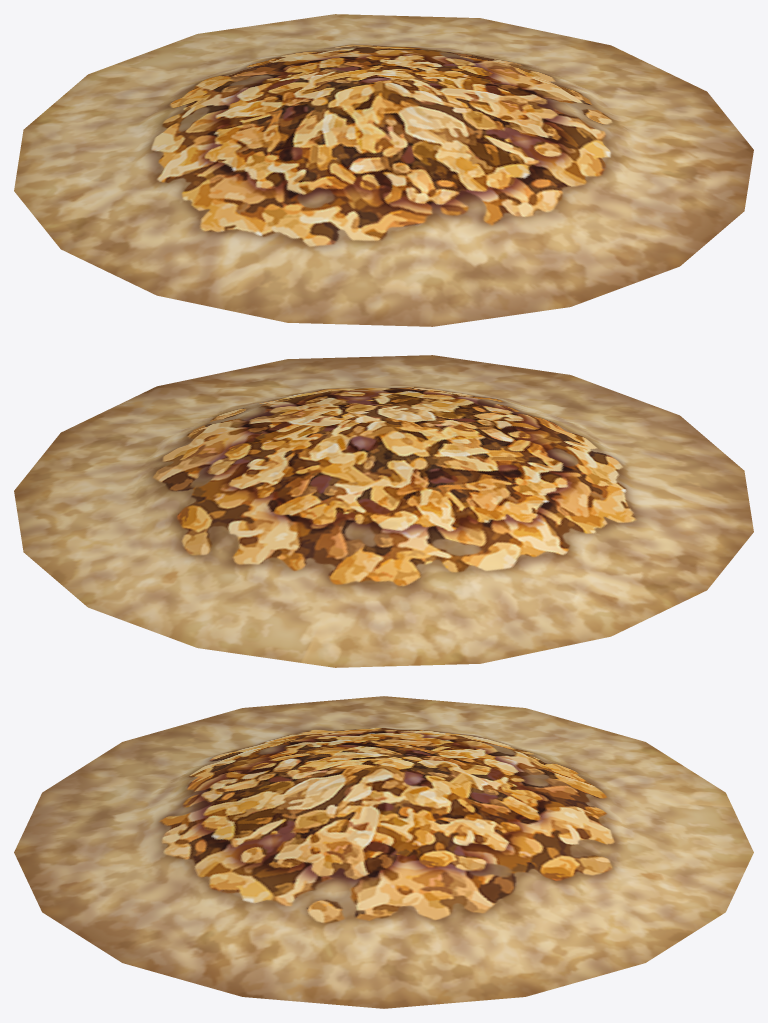
Rendered from Oatmeal_03.fbx.
The picture shows the model from 3 angles, top to bottom: view 1: azimuth 30°, elevation 25°; view 2: azimuth 150°, elevation 25°; view 3: azimuth 270°, elevation 25°; orthographic projection.
Visible parts, largest first — view 1: Oatmeal_03; view 2: Oatmeal_03; view 3: Oatmeal_03.
Boxes of the visible parts, <box> form: Oatmeal_03: <box>14,14,753,326</box>; Oatmeal_03: <box>14,355,753,667</box>; Oatmeal_03: <box>14,696,753,1008</box>.
Size of the model in its own units: 51.04 by 6.44 by 51.04.
